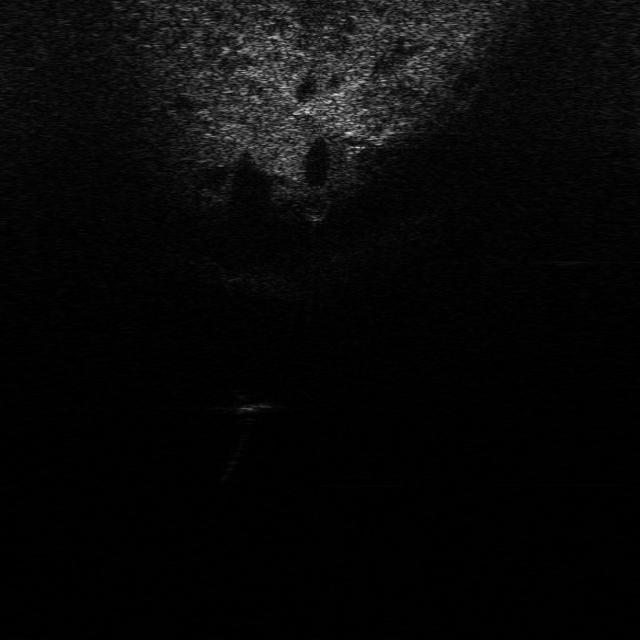ball: (298, 188, 333, 222)
cube: (222, 387, 286, 416)
